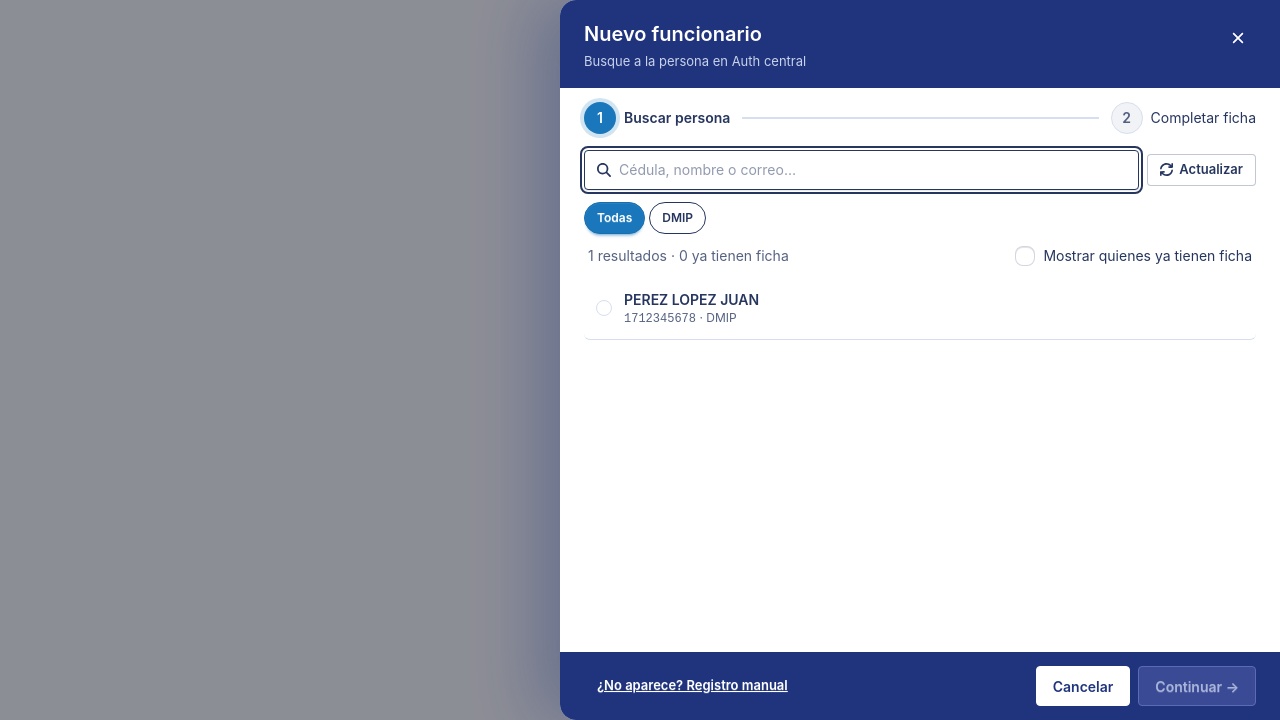
DrawerFlujoAlta · el pie gobierna el avance al paso 2 › «Continuar» está deshabilitado sin selección; al elegir y continuar, entra al paso 2
Click the button "PEREZ LOPEZ JUAN 1712345678 · DMIP": [692, 299] box [584,278,1256,340]
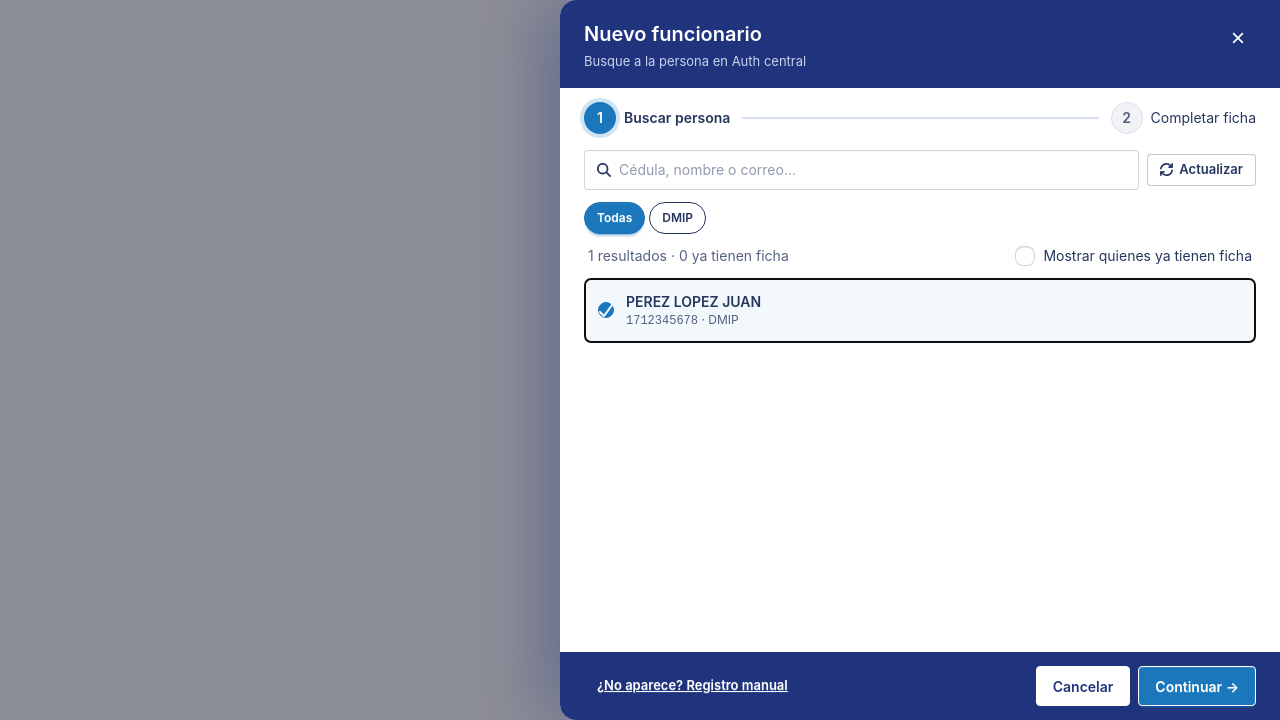
Expected: the button "Continuar →" is enabled
Click the button "Continuar →": [1197, 686] box [1138,666,1256,706]
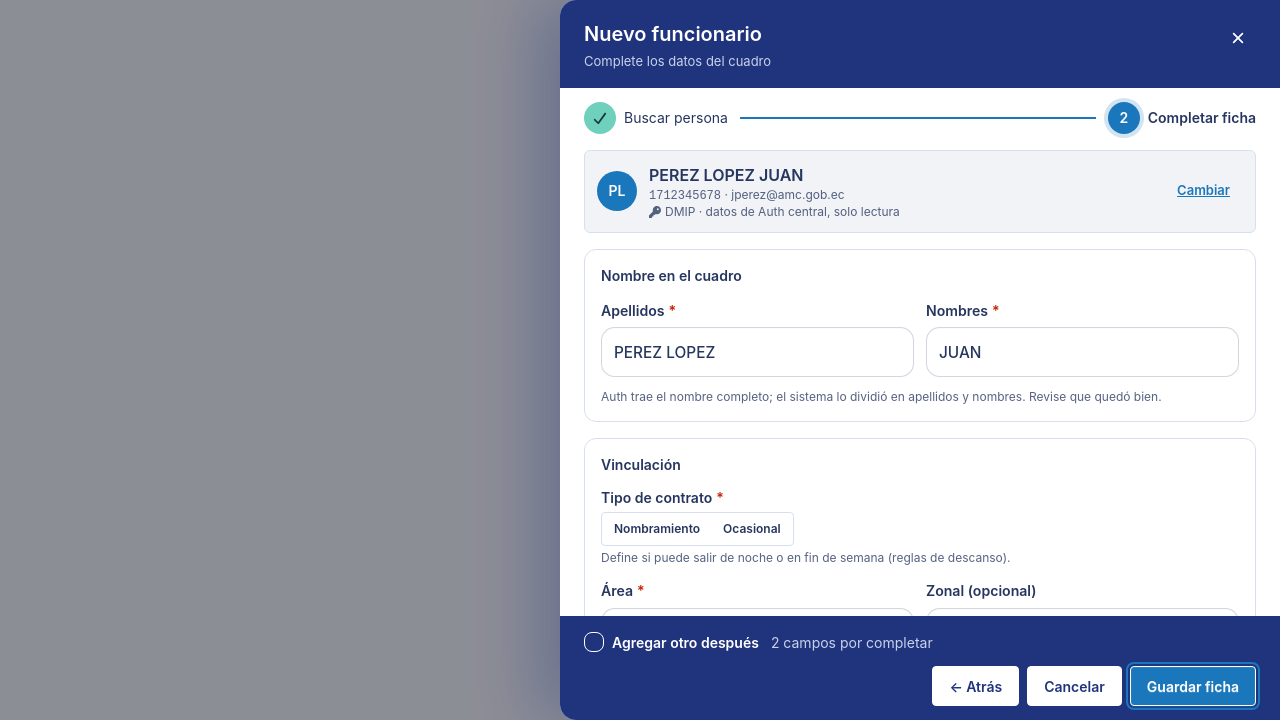
Expected: the button "Guardar ficha" is shown, [1130,666,1256,706]
